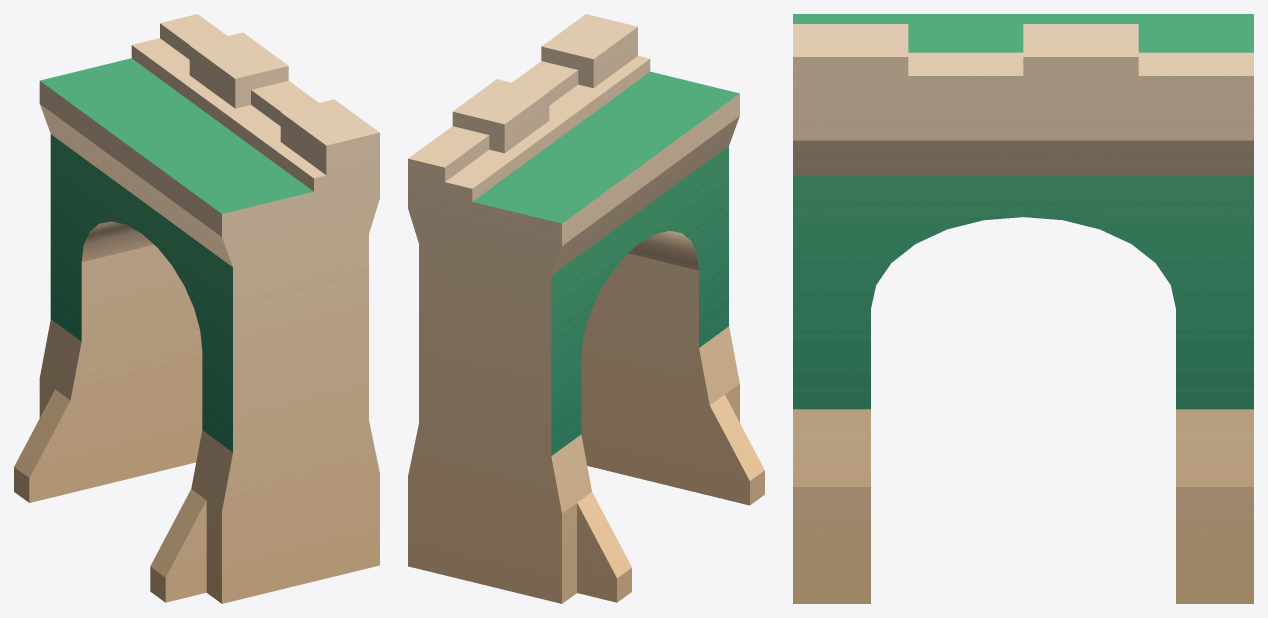
File: wall-narrow-gate.glb
3 views of the same model, side by side, from view 1: azimuth 30°, elevation 25°; view 2: azimuth 150°, elevation 25°; view 3: azimuth 270°, elevation 25° (orthographic). The views are drawn at different scales.
Parts seen in each view (by area): view 1: wall-narrow-gate; view 2: wall-narrow-gate; view 3: wall-narrow-gate.
Part boxes in pixels (bbox=[...]): wall-narrow-gate: bbox=[14, 14, 379, 603]; wall-narrow-gate: bbox=[408, 14, 764, 603]; wall-narrow-gate: bbox=[793, 14, 1253, 603].
Bounding box in the file's own units: 0.63 × 1.31 × 1.
